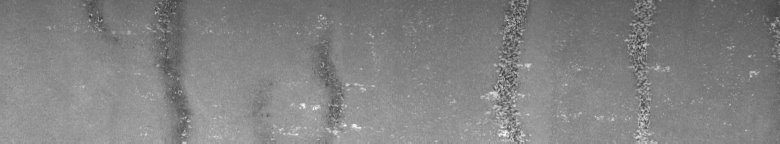hc: (291, 15, 375, 135)
